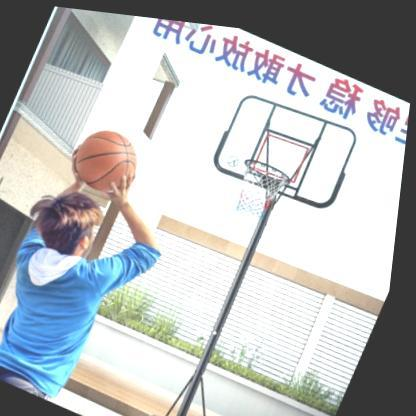basketball: (68, 115, 150, 198)
rim: (227, 146, 294, 219)
